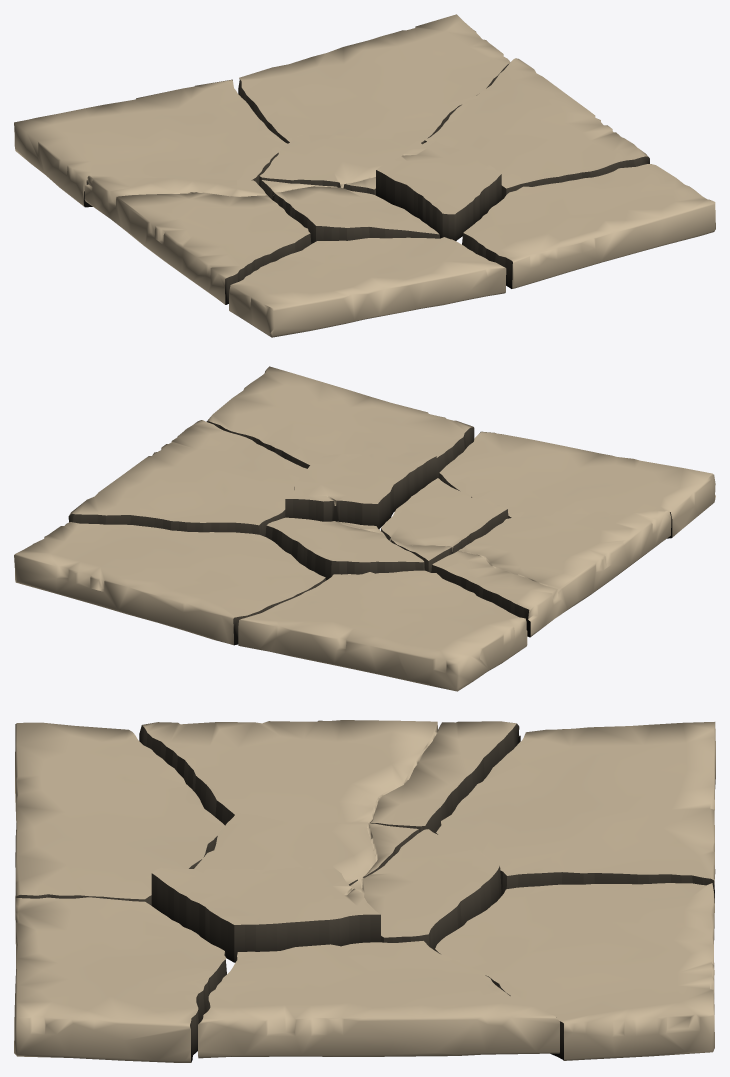
The model's file is slab2-1.glb.
The picture shows the model from 3 angles, top to bottom: view 1: azimuth 30°, elevation 25°; view 2: azimuth 150°, elevation 25°; view 3: azimuth 270°, elevation 25°; orthographic projection. The views are drawn at different scales.
Parts seen in each view (by area): view 1: damage2-1, chip0; view 2: damage2-1, chip0; view 3: damage2-1, chip0.
Boxes of the visible parts, left/top/right/bottom form: damage2-1: left=14, top=14, right=715, bottom=337; chip0: left=376, top=138, right=501, bottom=240; damage2-1: left=14, top=366, right=715, bottom=691; chip0: left=285, top=451, right=436, bottom=529; damage2-1: left=14, top=720, right=715, bottom=1062; chip0: left=151, top=865, right=380, bottom=962.
Bounding box in the file's own units: 1.01 × 0.1101 × 1.01.
